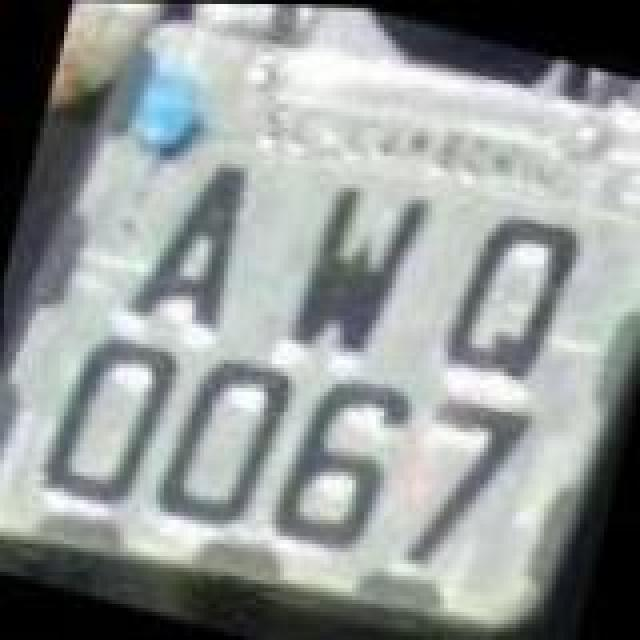6: (264, 360, 416, 560)
7: (390, 384, 534, 584)
A: (118, 142, 254, 334)
O: (34, 320, 182, 516), (146, 340, 294, 536)
Q: (440, 198, 588, 386)
W: (280, 172, 428, 368)
